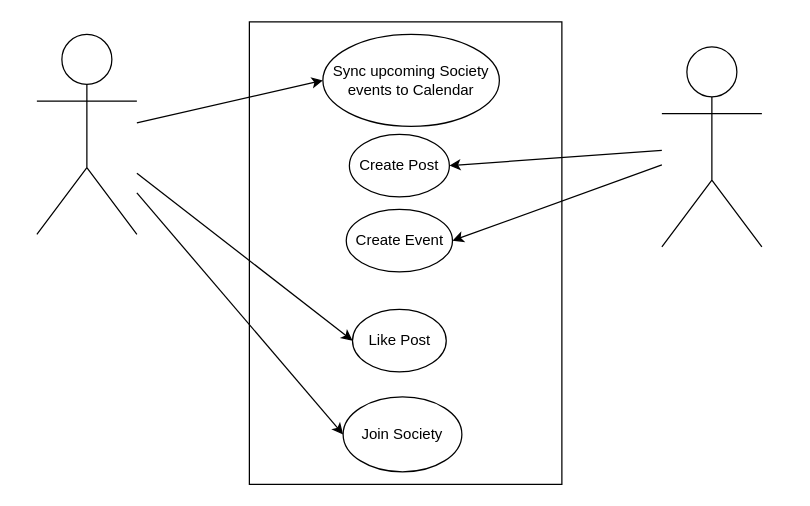
The diagram is 810 pixels wide and 506 high, and some of its shapes have lost their labels. The box of each missing label's shape, as (x1, y1, x2, y2) in pixels:
Registered Commiteee: (661, 46, 762, 247)
Registered Member: (36, 33, 137, 234)
